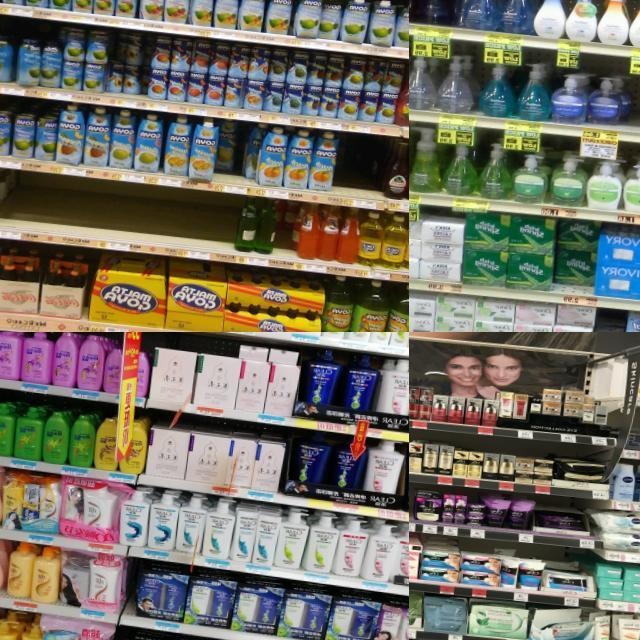empty: (24, 172, 137, 250), (133, 184, 198, 257), (192, 190, 238, 262), (341, 133, 374, 208), (0, 169, 29, 239), (626, 64, 640, 146)
